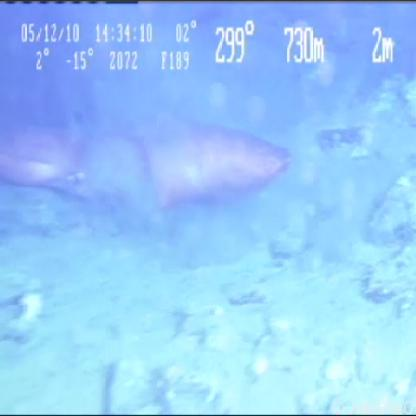Bio: (1, 111, 299, 218)
